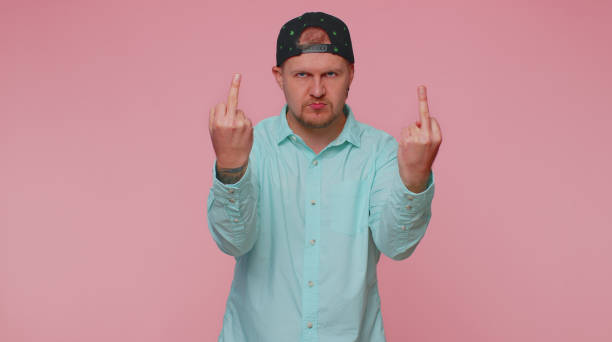insulting_gesture: (206, 69, 254, 168), (399, 84, 443, 186)
